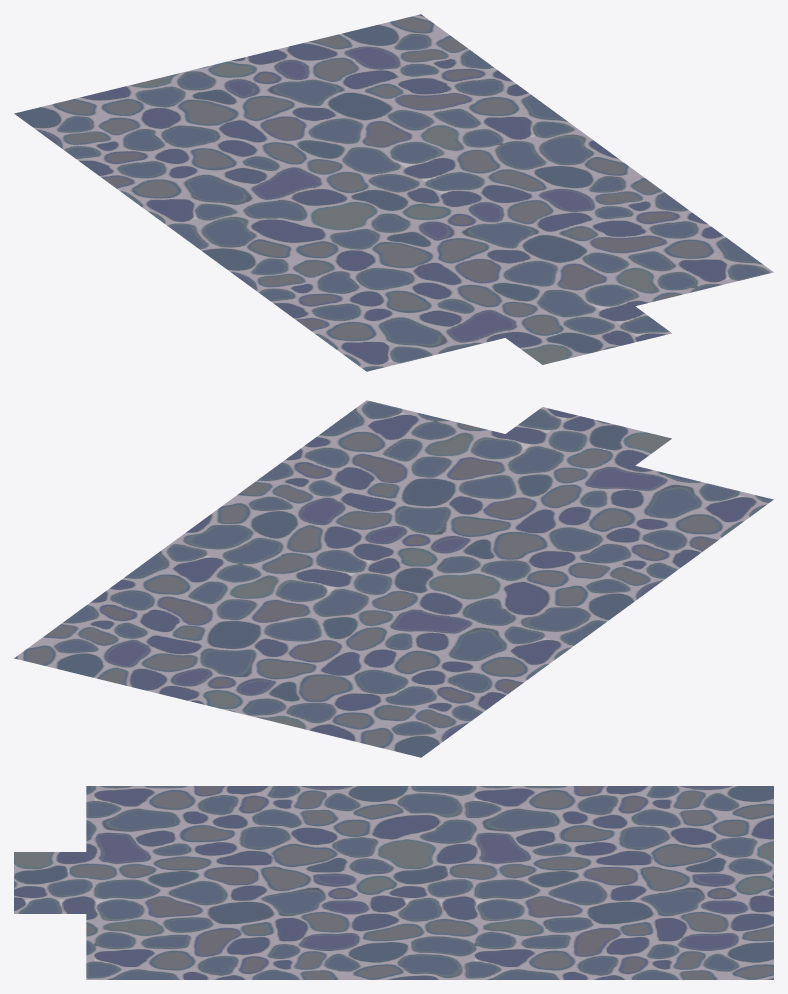
Rendered from Floor02_e01.FBX.
3 renders of one model, top to bottom at view 1: azimuth 30°, elevation 25°; view 2: azimuth 150°, elevation 25°; view 3: azimuth 270°, elevation 25°, orthographic. The views are drawn at different scales.
Parts seen in each view (by area): view 1: Floor02_e01; view 2: Floor02_e01; view 3: Floor02_e01.
Boxes of the visible parts, x1,y1,x2,y2 form: Floor02_e01: (14,14,773,371); Floor02_e01: (14,400,773,757); Floor02_e01: (14,786,773,979).
Size of the model in its own units: 600 by 0.000446 by 995.
Materials: 1 (1 with a texture image).
